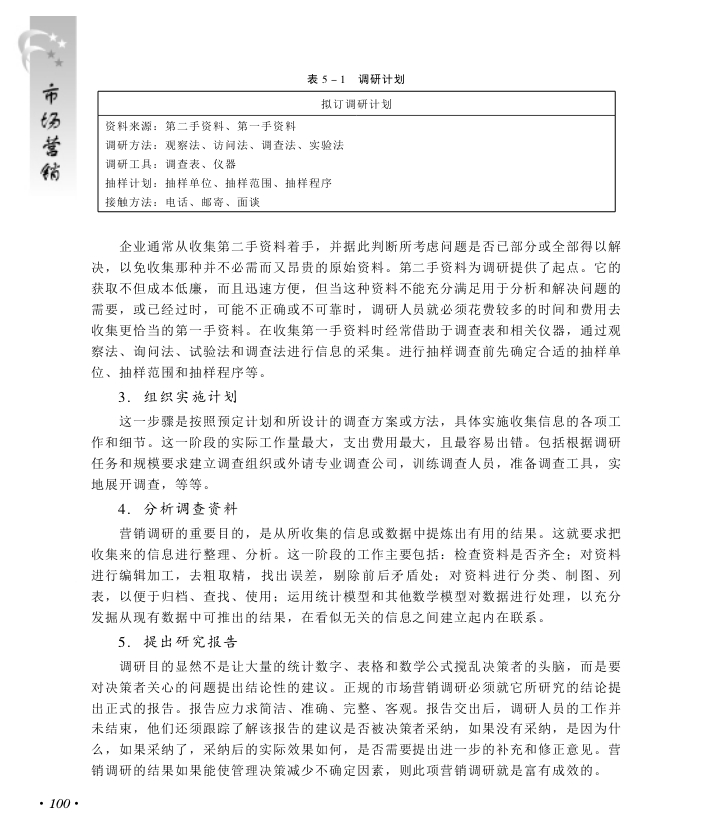table: (97, 90, 616, 213)
